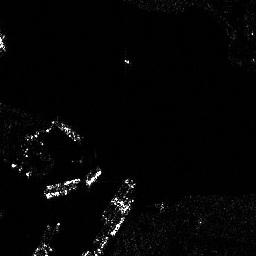ship: (43, 177, 81, 199), (50, 119, 81, 141), (86, 167, 103, 186)
